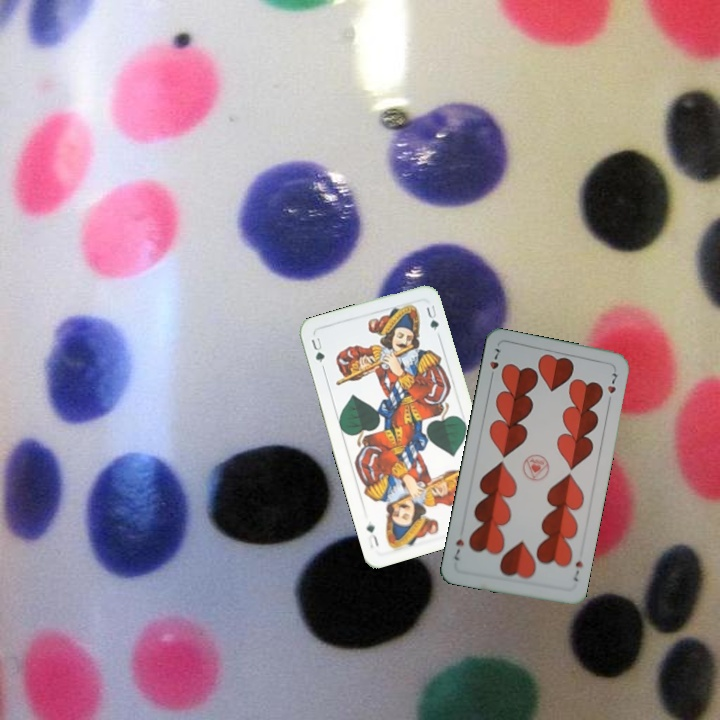GU: (307, 333, 327, 365)
H7: (486, 344, 502, 383), (569, 557, 585, 584)
